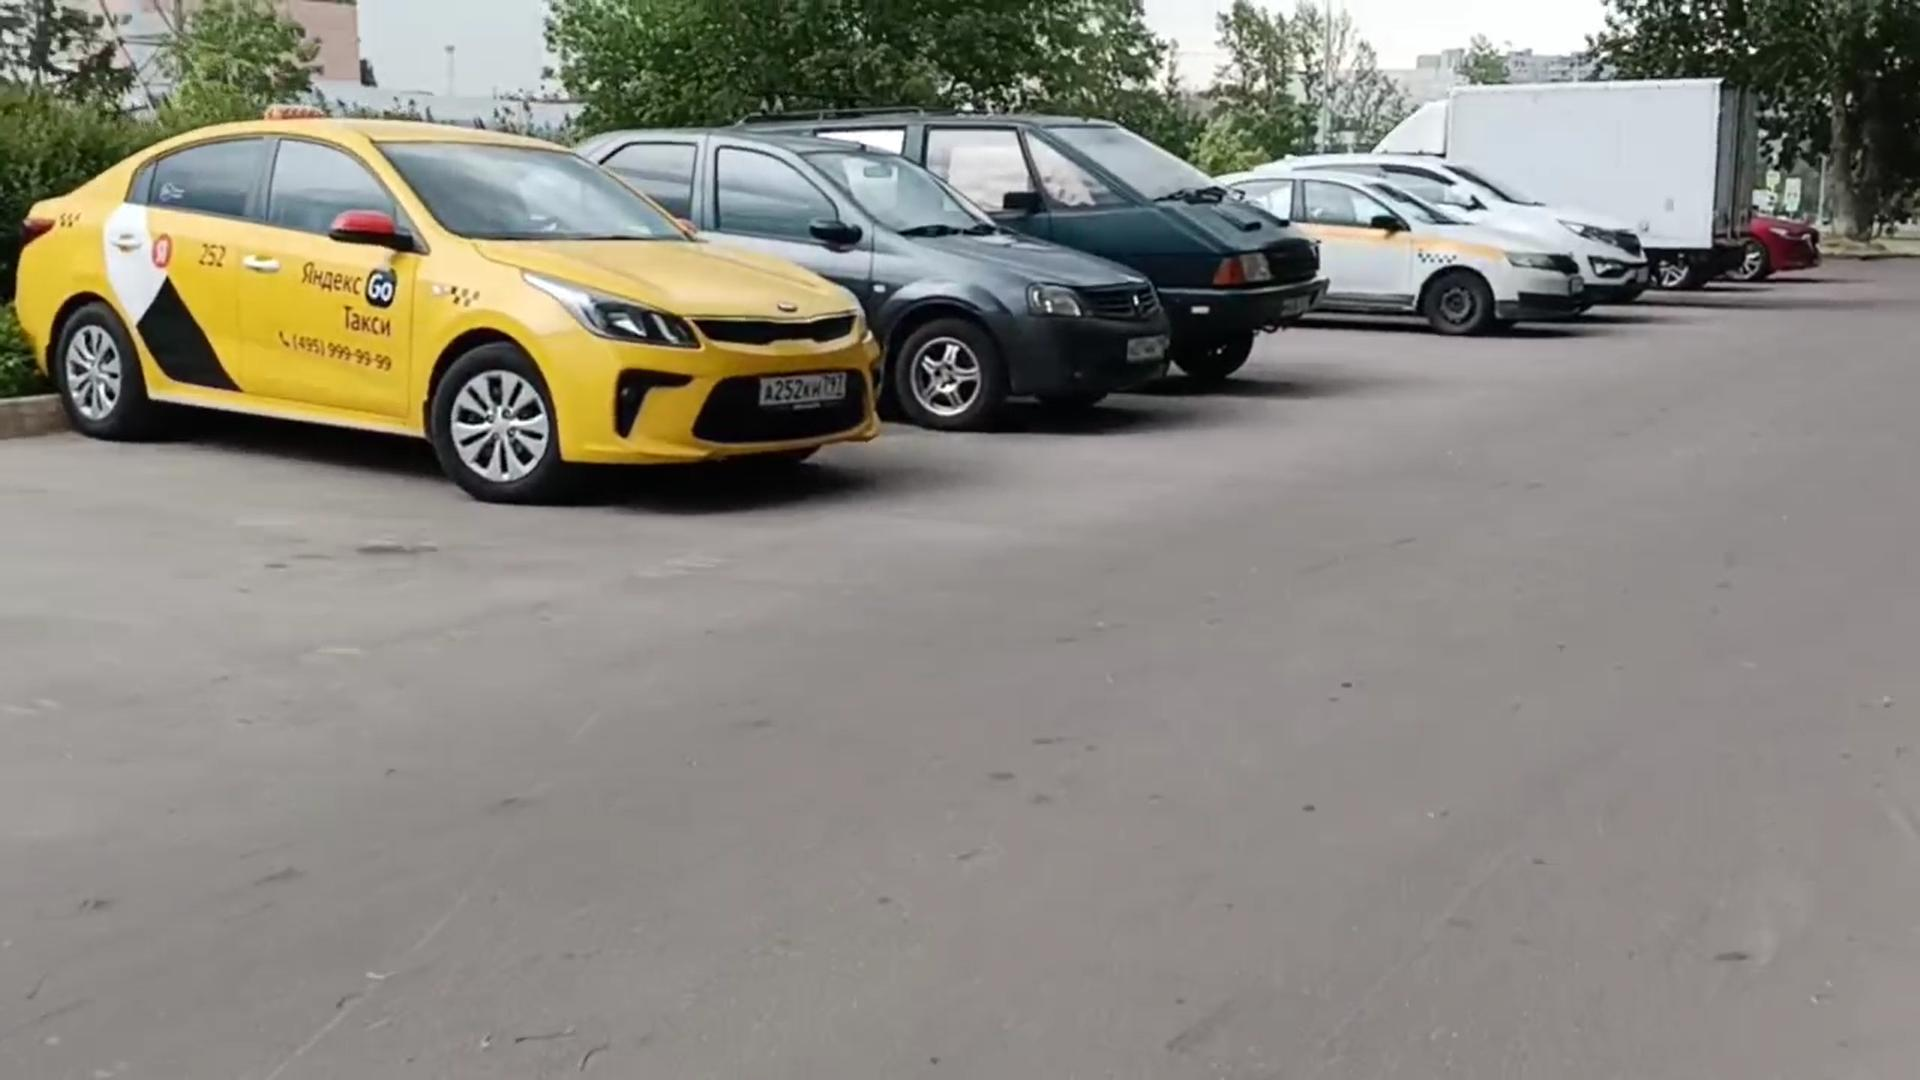plate: (758, 375, 844, 405), (1125, 336, 1172, 365)
